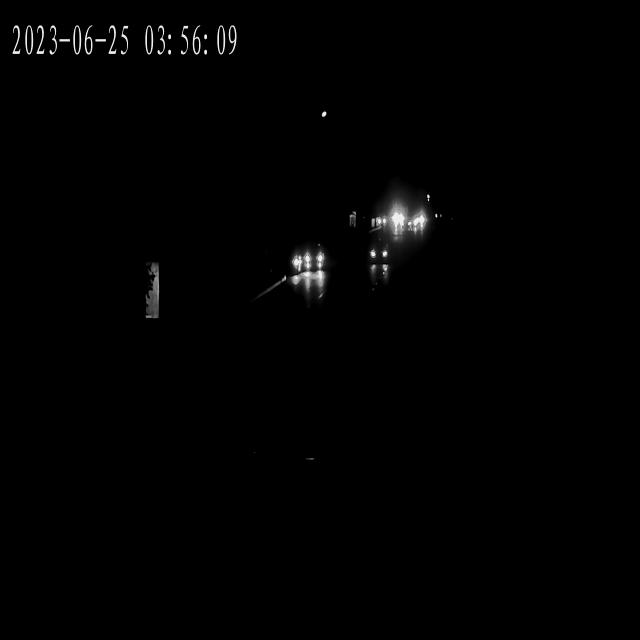Car: (368, 239, 390, 264), (368, 244, 389, 270), (303, 264, 325, 281), (304, 252, 326, 268), (304, 257, 324, 274), (304, 261, 324, 276), (412, 214, 430, 228), (387, 208, 405, 222), (411, 216, 428, 230), (388, 213, 406, 226), (378, 214, 396, 227), (408, 217, 424, 231), (290, 252, 306, 266), (390, 218, 405, 232), (373, 214, 389, 227), (370, 214, 386, 227)
